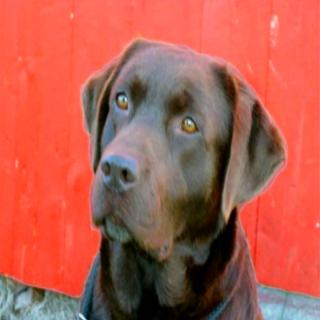dog: (72, 29, 295, 268)
nose: (98, 150, 140, 196)
